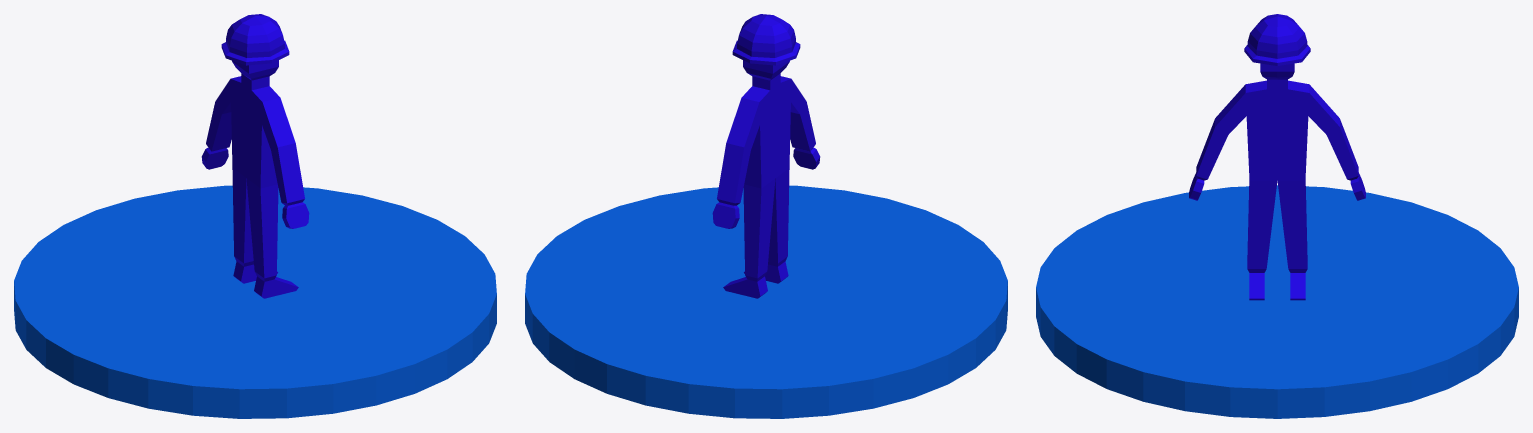
File: infantryBlue.fbx
The picture shows the model from 3 angles, left to right: view 1: azimuth 30°, elevation 25°; view 2: azimuth 150°, elevation 25°; view 3: azimuth 270°, elevation 25°; orthographic projection.
Visible parts, largest first — view 1: infantryBlue; view 2: infantryBlue; view 3: infantryBlue.
Part boxes in pixels (box(x1,y1,x2,y2)): infantryBlue: box(14, 14, 496, 418); infantryBlue: box(525, 14, 1007, 418); infantryBlue: box(1036, 14, 1518, 418).
Size of the model in its own units: 154 by 106 by 154.
